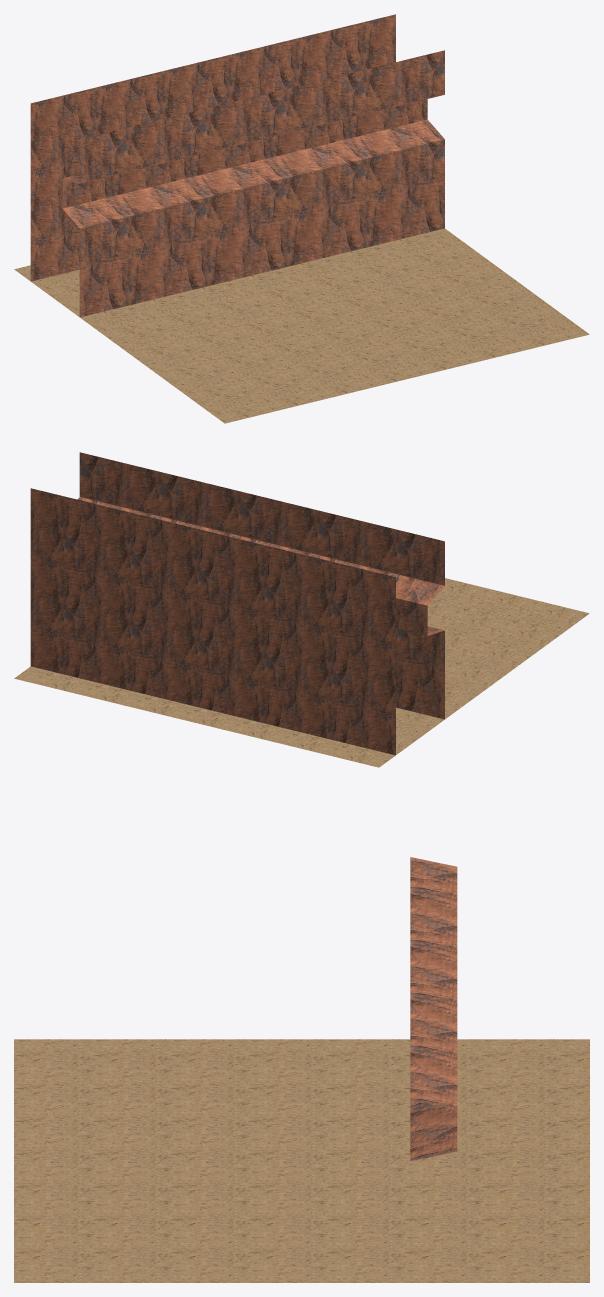
File: SM_Mine_01_Block_00.fbx
The picture shows the model from 3 angles, top to bottom: view 1: azimuth 30°, elevation 25°; view 2: azimuth 150°, elevation 25°; view 3: azimuth 270°, elevation 25°; orthographic projection. The views are drawn at different scales.
Parts seen in each view (by area): view 1: SM_Mine_01_Block_00.001, SM_Mine_01_Block_00; view 2: SM_Mine_01_Block_00.001, SM_Mine_01_Block_00; view 3: SM_Mine_01_Block_00, SM_Mine_01_Block_00.001.
Part boxes in pixels (<box>): SM_Mine_01_Block_00.001: <box>30,14,444,317</box>; SM_Mine_01_Block_00: <box>14,228,589,423</box>; SM_Mine_01_Block_00.001: <box>30,452,444,755</box>; SM_Mine_01_Block_00: <box>14,578,589,767</box>; SM_Mine_01_Block_00: <box>14,1039,589,1282</box>; SM_Mine_01_Block_00.001: <box>410,857,457,1160</box>.
Bounding box in the file's own units: 5104 × 2380 × 5104.
